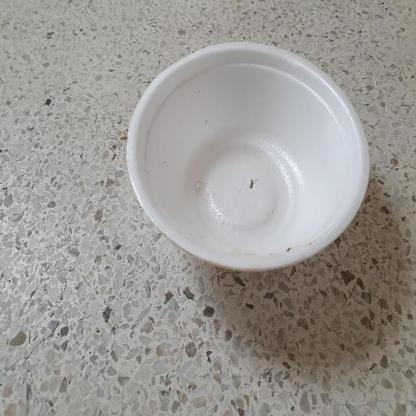Glass Cup: (127, 41, 370, 273), (127, 42, 370, 271)
